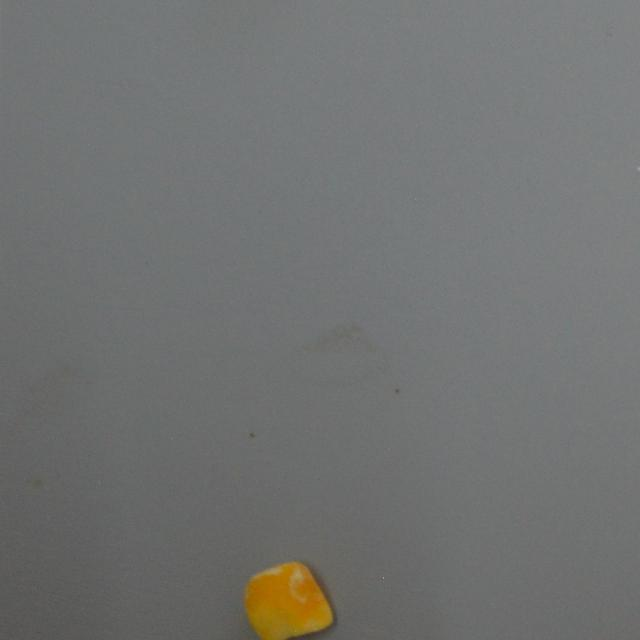pelicula: (237, 555, 336, 639)
